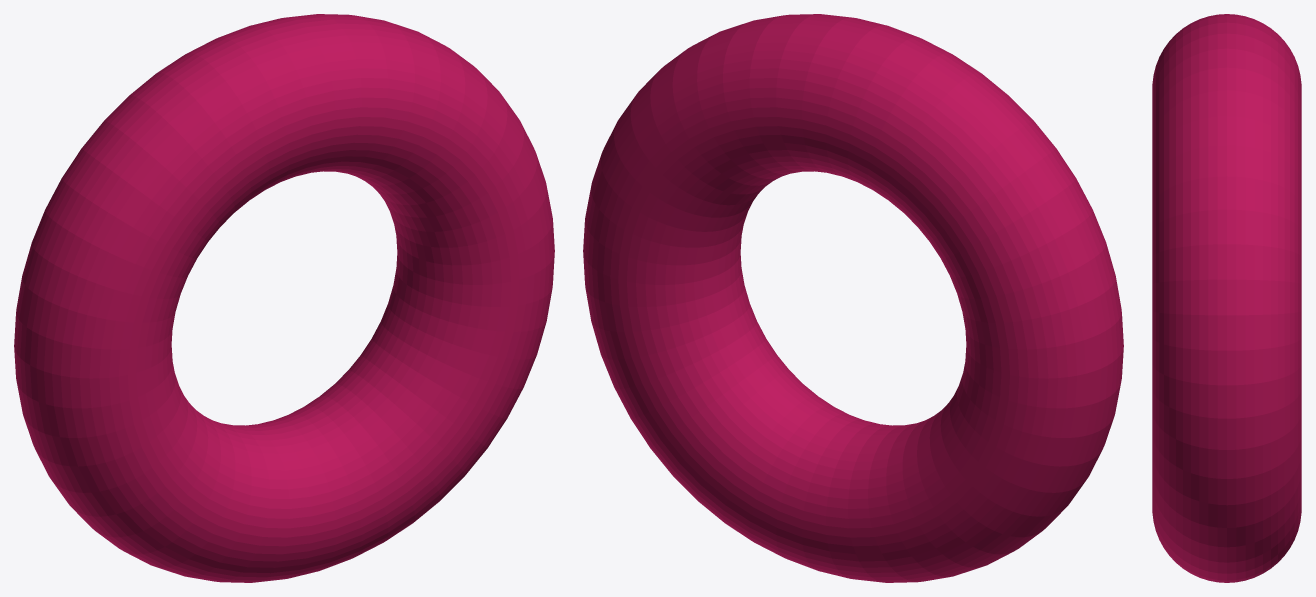
3 renders of one model, left to right at view 1: azimuth 30°, elevation 25°; view 2: azimuth 150°, elevation 25°; view 3: azimuth 270°, elevation 25°, orthographic. The views are drawn at different scales.
Parts seen in each view (by area): view 1: world; view 2: world; view 3: world.
Part boxes in pixels (x1,y1,x2,y2): world: [14, 14, 554, 582]; world: [583, 14, 1123, 582]; world: [1152, 14, 1301, 582].
Bounding box in the file's own units: 37.07 × 36.99 × 9.71.
